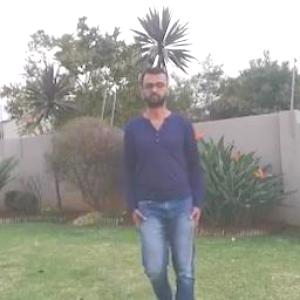follow: (132, 85, 200, 299)
